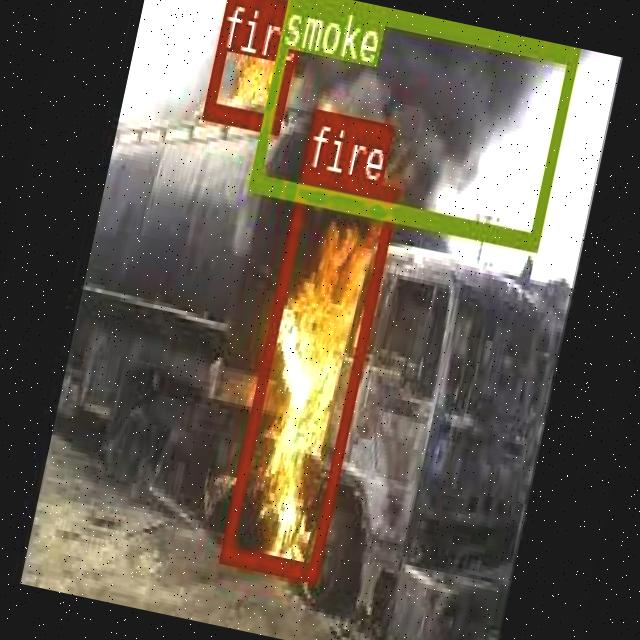fire: (220, 166, 398, 579), (200, 0, 303, 130)
smoke: (247, 0, 576, 248)
